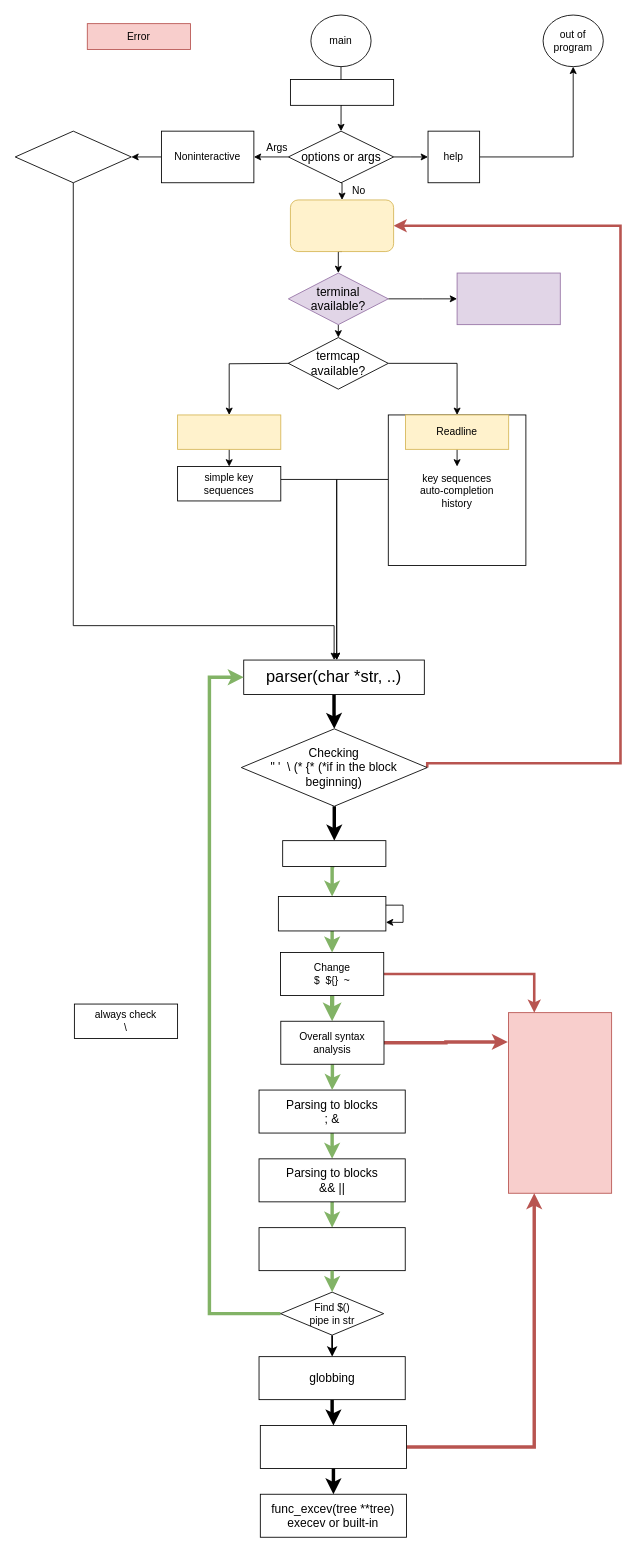
Image size: 643x1552. Some labels were removed from this diagram. The shapes that lost their labels are listed below. From the top down, each one's centre as x and y in pixels, then its label:
the point at 342,92: signals, env, other variables
the point at 72,156: valid (-C and string)
the point at 342,225: Interactive(flag prompt)
the point at 508,298: waiting for terminal
the point at 229,431: Readline simple
the point at 334,853: Buffer for history
the point at 332,913: isolate strings in ' "
the point at 560,1102: Error ?
the point at 331,1249: Parsing to blocks | (pipes) > < >> <<
the point at 333,1446: local syntax analysis
